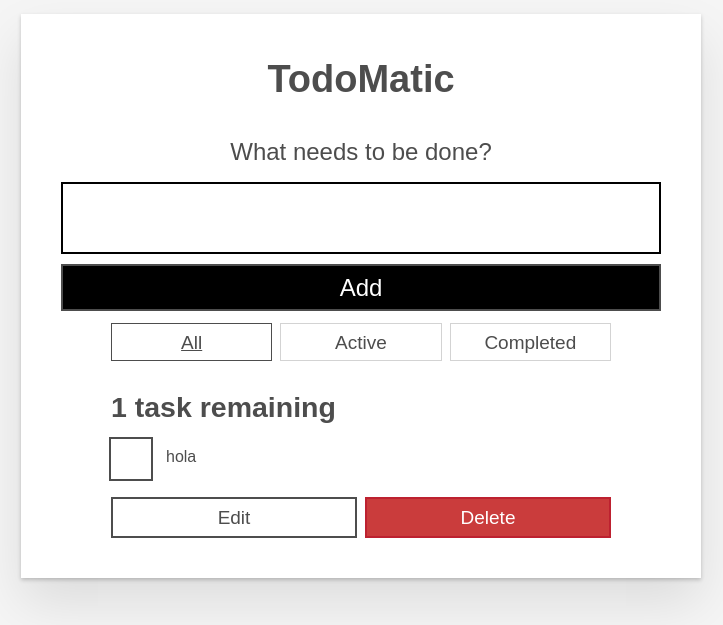
Test: Test actions › Should remove task on button click
Click the button "Delete".
click(488, 517)  # box left=365, top=497, right=611, bottom=538
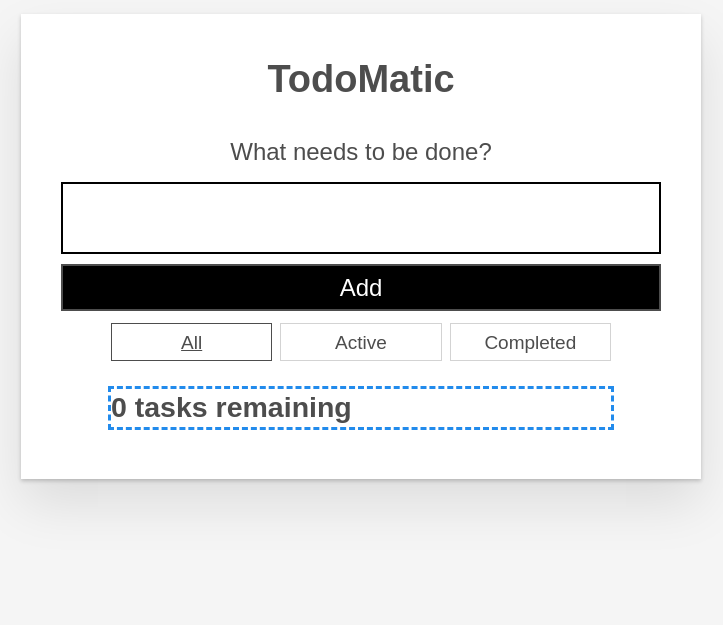
Now no checkboxes with test id "todo-label" are shown
